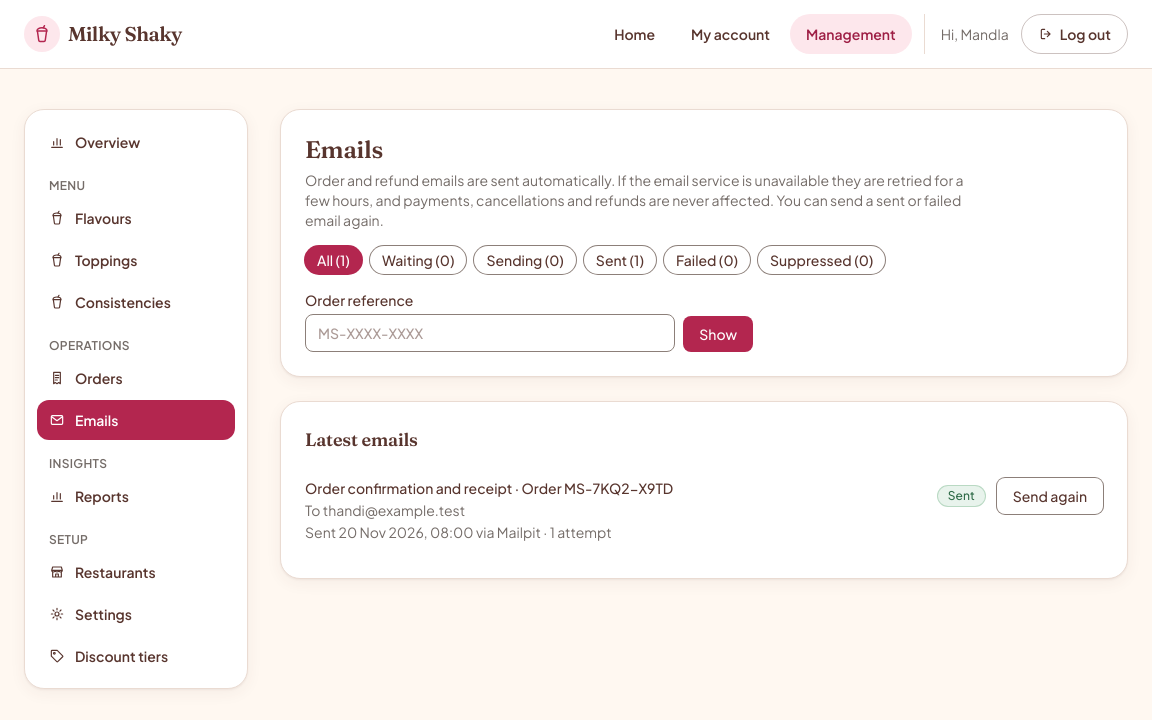
Management → Emails › asks the manager to wait when resends are rate-limited
Step 1. Click the button "Send again" → (1050, 496), box [997, 478, 1103, 514]
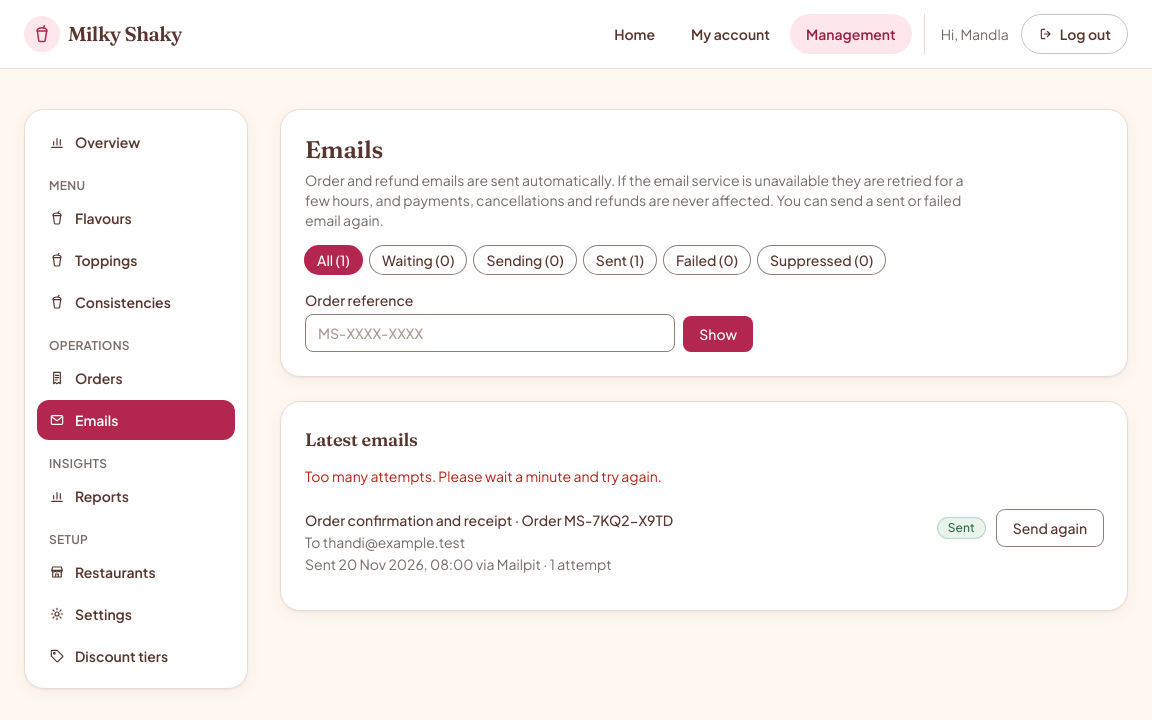
Expected: the message shows "Please wait a minute and try again.", [305, 467, 662, 485]
